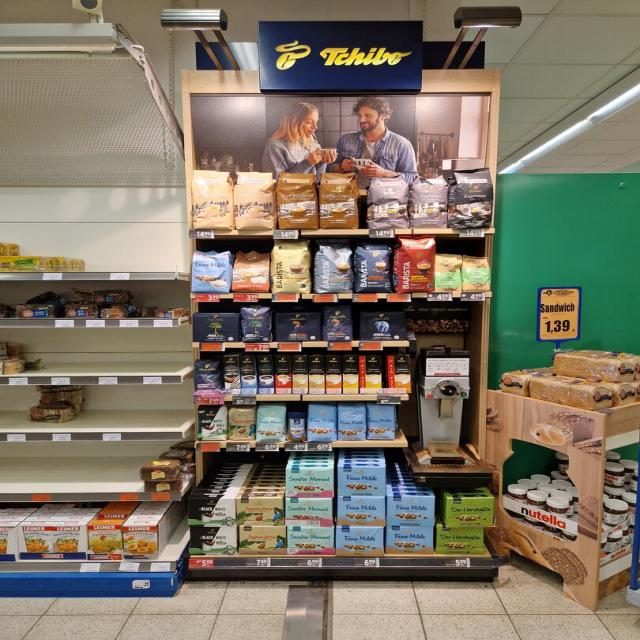AB Gemahlen: (359, 312, 407, 342)
Athiopien Bohne: (461, 254, 491, 292)
Athiopien Gemahlen: (436, 252, 462, 292)
BM Bohne: (240, 305, 274, 343)
BM Gemahlen: (192, 312, 242, 342)
BW Bohne: (196, 406, 228, 442)
BW Gemahlen: (185, 497, 237, 527), (186, 527, 238, 555)
Barista CB: (269, 238, 313, 294)
Barista CC: (312, 240, 354, 294)
Barista Espresso: (354, 242, 394, 294)
Barista Kolumbien: (394, 237, 436, 293)
C Fino Bohne: (192, 358, 226, 396)
CC Mild: (188, 168, 236, 232), (233, 170, 278, 232)
CC Vollmundig: (231, 250, 271, 294)
CC Vollmundig 36 Pads: (274, 172, 320, 230), (318, 172, 361, 231)
Colombia BB Bohne: (227, 406, 256, 440)
Colombia BB Gemahlen: (235, 497, 285, 527), (237, 526, 287, 555)
Espresso Kraftig: (448, 166, 494, 230)
Espresso M Art: (365, 175, 411, 230), (409, 174, 449, 230)
FM 36 Pads: (189, 248, 233, 294)
FM Bohne: (306, 402, 338, 442), (337, 403, 367, 443), (366, 404, 396, 442)
FM Gemahlen: (335, 496, 388, 528), (336, 464, 388, 496), (382, 524, 434, 556), (386, 494, 436, 527), (335, 526, 385, 558)
FM Instant: (286, 409, 308, 443)
Herzhatfe Mundig: (433, 523, 486, 557), (446, 496, 498, 528)
LG Bohne: (321, 305, 354, 342)
LG Gemahlen: (274, 312, 322, 342)
SM Bohne: (254, 403, 286, 442)
SM Gemahlen: (283, 466, 336, 497), (286, 526, 336, 556), (284, 498, 334, 528)
Simo CCMild: (358, 354, 383, 395)
Simo CCMild bigpack: (342, 354, 359, 395)
Simo CCVollmundig: (385, 354, 412, 394)
Simo CCVollmundig bigpack: (325, 355, 342, 395)
Simo Es Elegant: (274, 354, 292, 395)
Simo Kaffee BW: (224, 354, 242, 396)
Simo Kaffee Kraft: (256, 355, 275, 395)
Simo Kaffee Mild: (240, 355, 259, 395)
